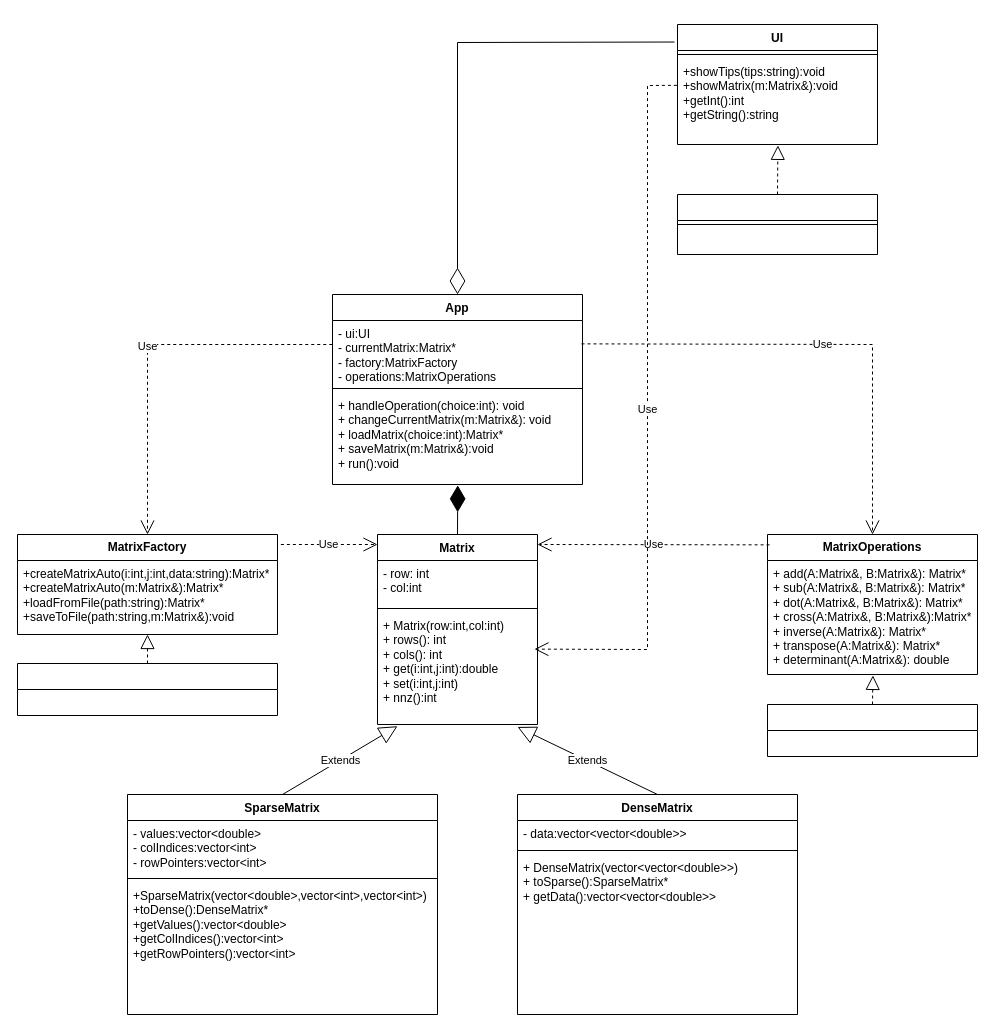
Some shapes in this 995 by 1035 pixel diagram are drawn without their labels. Each missing label, with the centre of its shape:
"Basic MatrixFactory" belongs at (147,689).
"BasicMatrixOperations" belongs at (872,730).
"ConsoleUI" belongs at (777,224).
